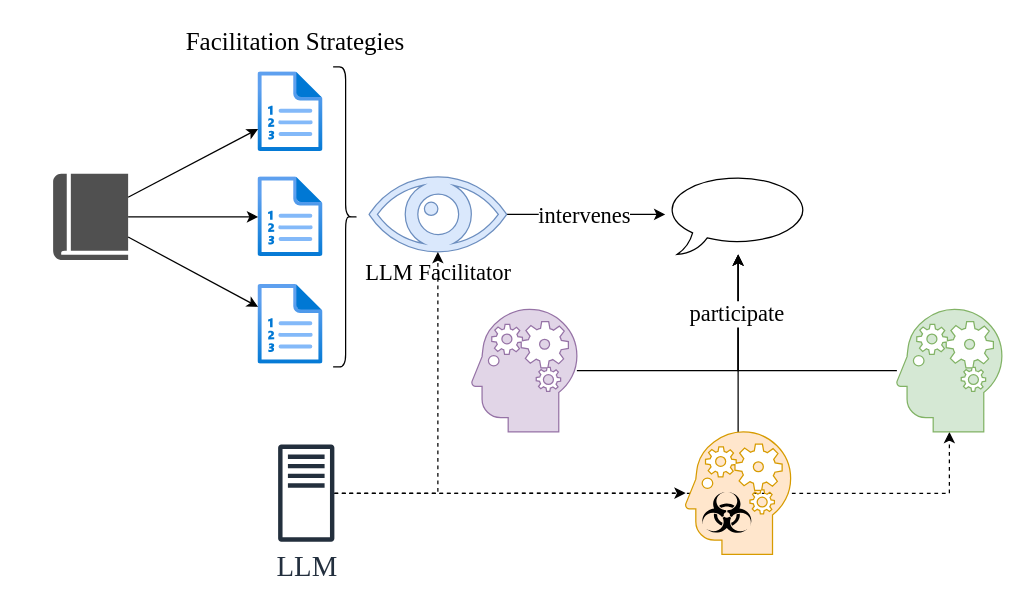
Image size: 1024x606. Some labels were removed from this diagram. The shapes that lost their labels are listed below. From the top down, each one's box as (x1, y1, x2, y2) in pixels, then its label:
(52, 173, 128, 259): Social Science literature
(664, 173, 811, 254): Discussion
